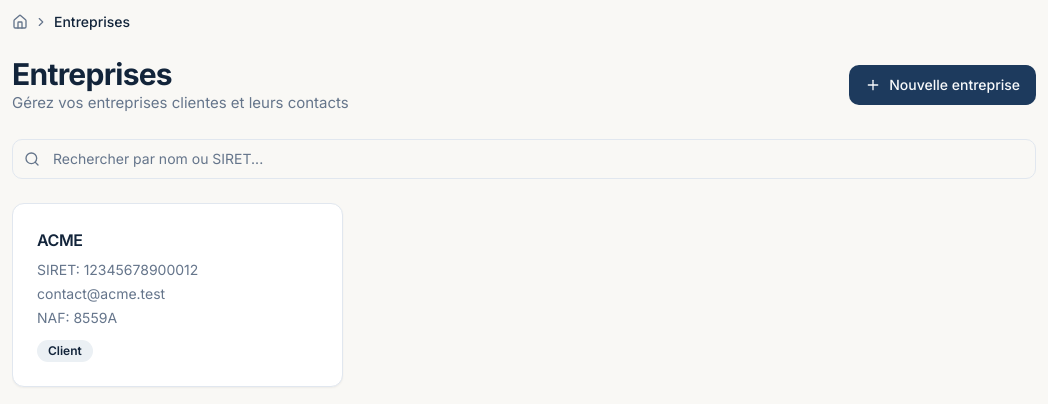
Test: CompaniesListPage › shows a "no results" hint when the search term filters everything out
Type "zzz" into the field with placeholder "Rechercher par nom ou SIRET...".
click(524, 158); type("zzz")  # box [12, 138, 1036, 178]
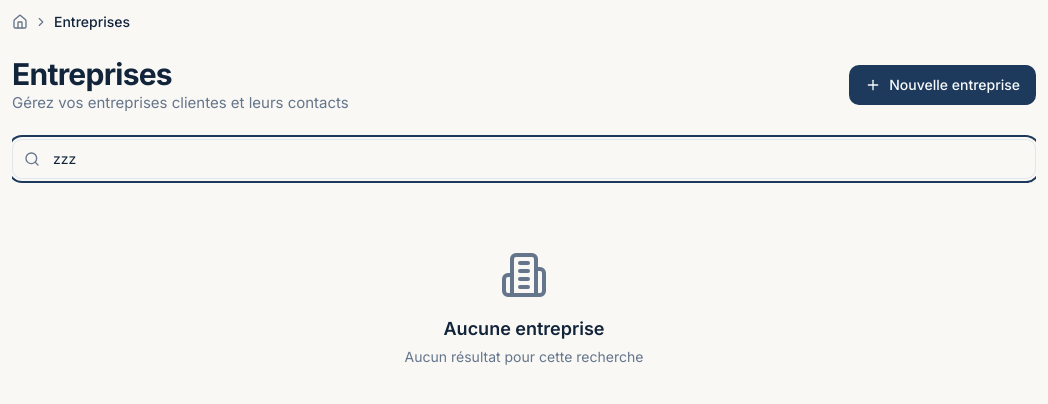
Now the heading "Aucune entreprise" is shown, box [444, 314, 604, 342]
Now the text "Aucun résultat pour cette recherche" is shown, box [405, 346, 643, 366]
